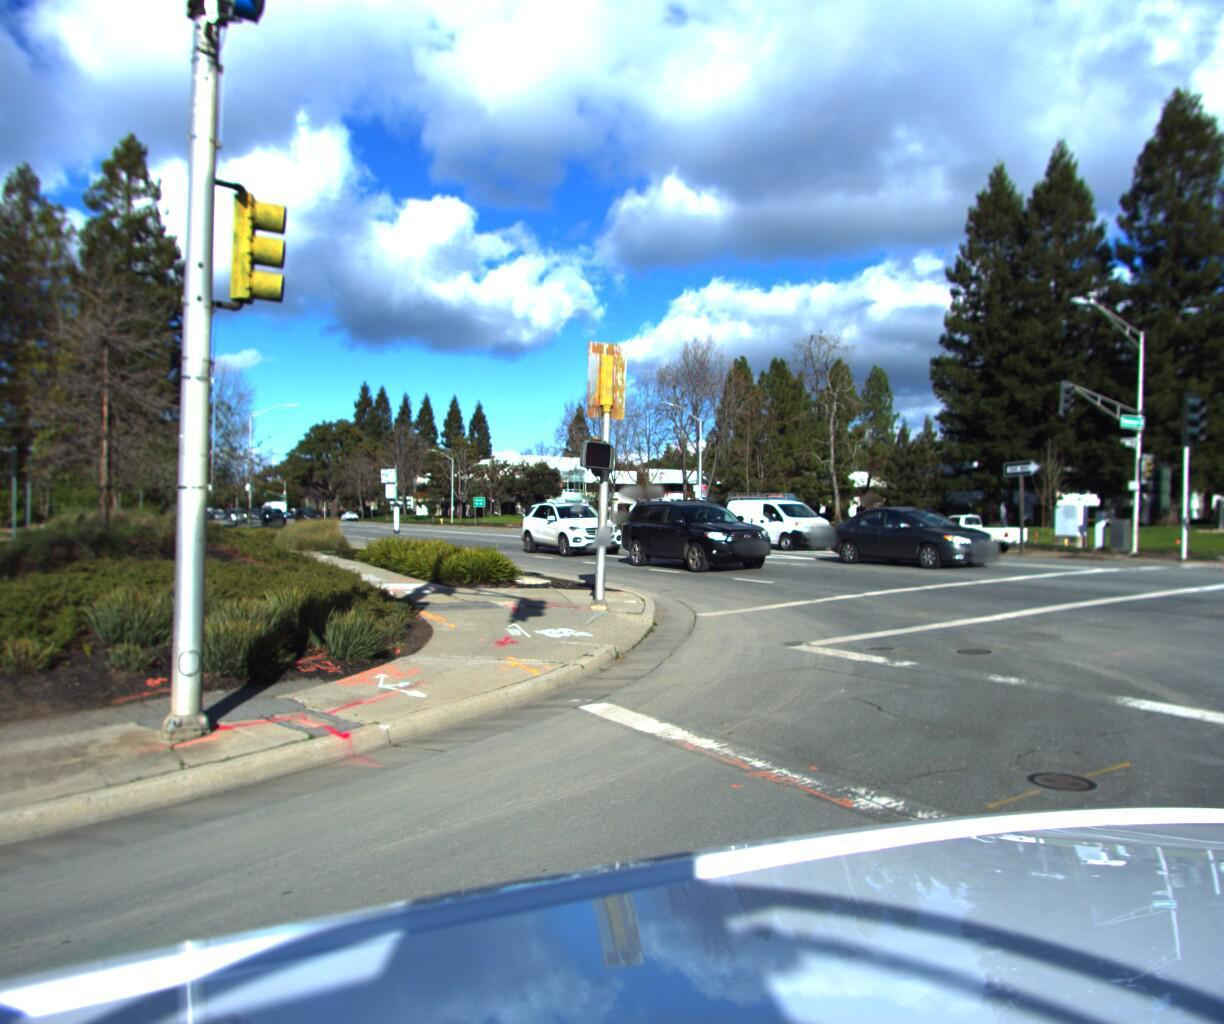car: (821, 498, 1018, 573), (613, 492, 788, 573), (713, 482, 842, 548), (513, 495, 633, 559), (912, 509, 1036, 549)
